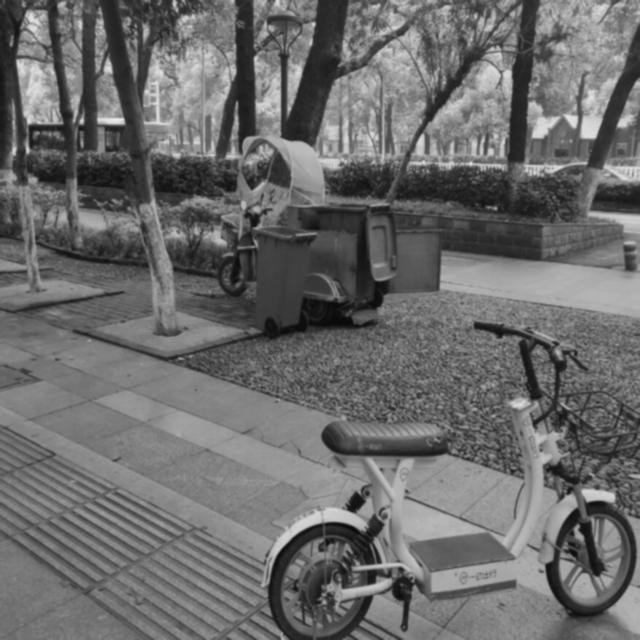ash bin: (249, 222, 314, 337)
bus: (24, 117, 174, 154)
car: (539, 156, 630, 182)
motorbike: (267, 317, 633, 639)
tricycle: (217, 132, 392, 320)
